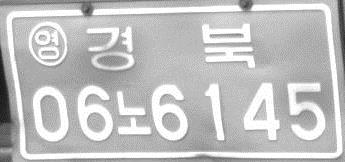0: (30, 84, 70, 143)
1: (202, 81, 227, 143)
4: (240, 81, 282, 141)
5: (284, 79, 327, 142)
6: (149, 81, 190, 142), (76, 83, 114, 143)
경북_D: (84, 20, 258, 74)
노: (114, 88, 152, 137)
영: (27, 20, 69, 67)
